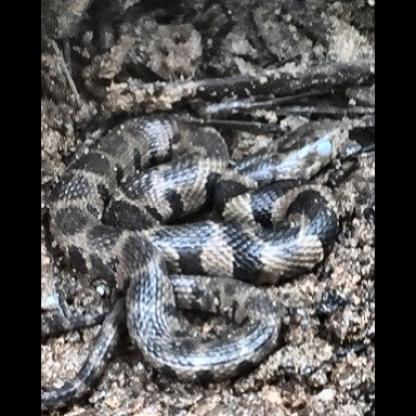Snake: (76, 36, 340, 410)
